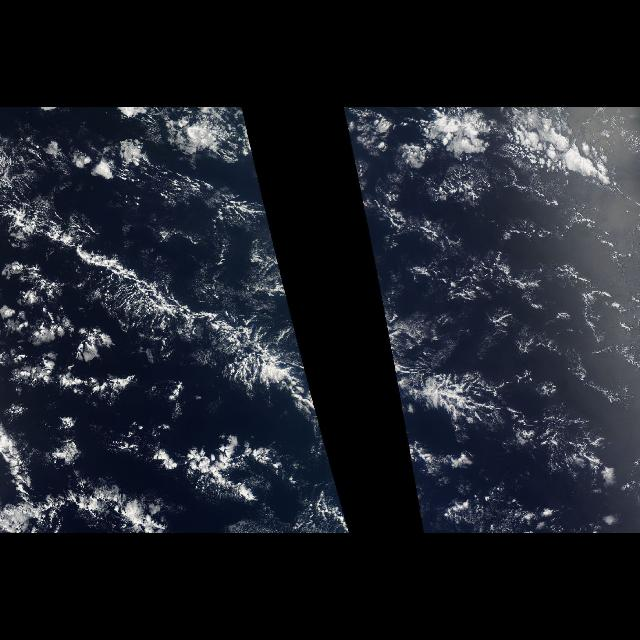Fish: (14, 198, 334, 468), (359, 198, 637, 468)
